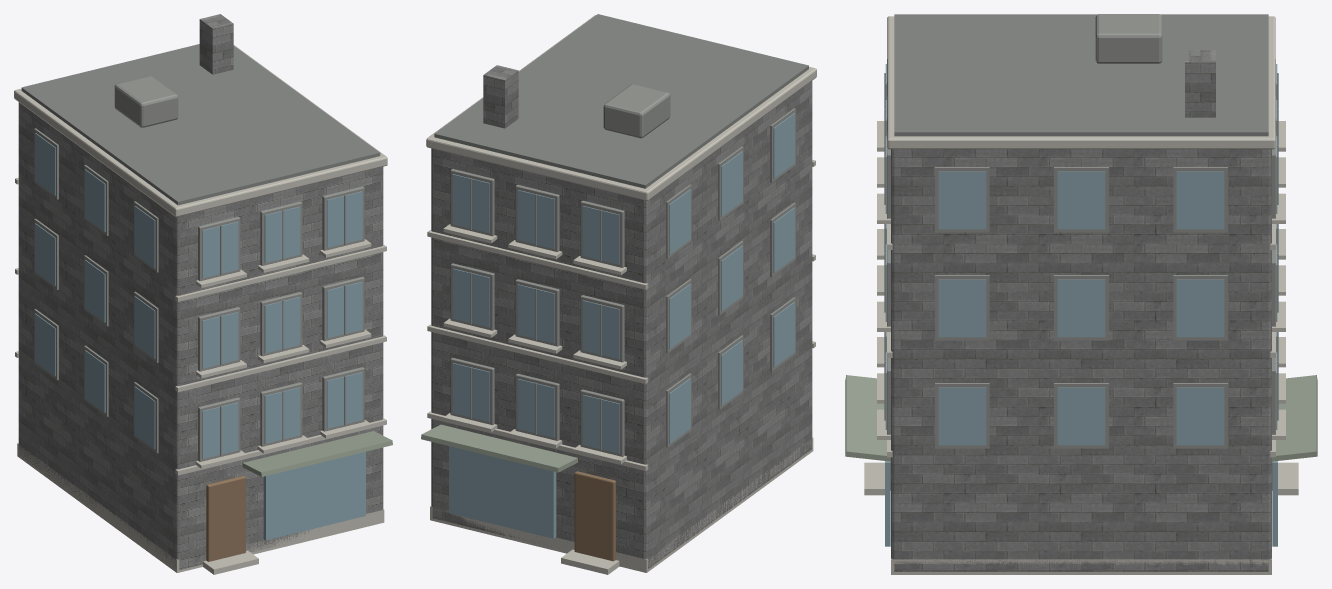
Rendered from brick-shop.glb.
3 views of the same model, side by side, from view 1: azimuth 30°, elevation 25°; view 2: azimuth 150°, elevation 25°; view 3: azimuth 270°, elevation 25° (orthographic). The views are drawn at different scales.
Visible parts, largest first — view 1: brick-shop; view 2: brick-shop; view 3: brick-shop.
Boxes of the visible parts, x1,y1,x2,y2 form: brick-shop: [14, 14, 392, 574]; brick-shop: [421, 14, 816, 574]; brick-shop: [845, 14, 1317, 574].
Bounding box in the file's own units: 6.15 × 11.5 × 9.91.
Materials: 7 (1 with a texture image).
